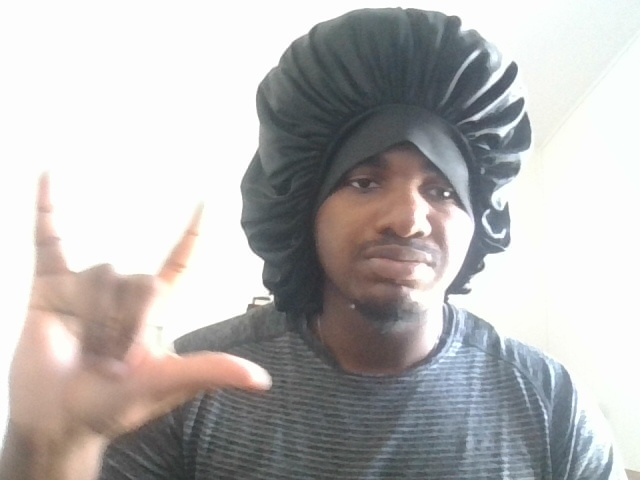I Love You: (14, 155, 279, 437)
